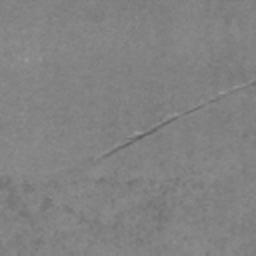Finishing roll printing: (101, 81, 256, 160)
